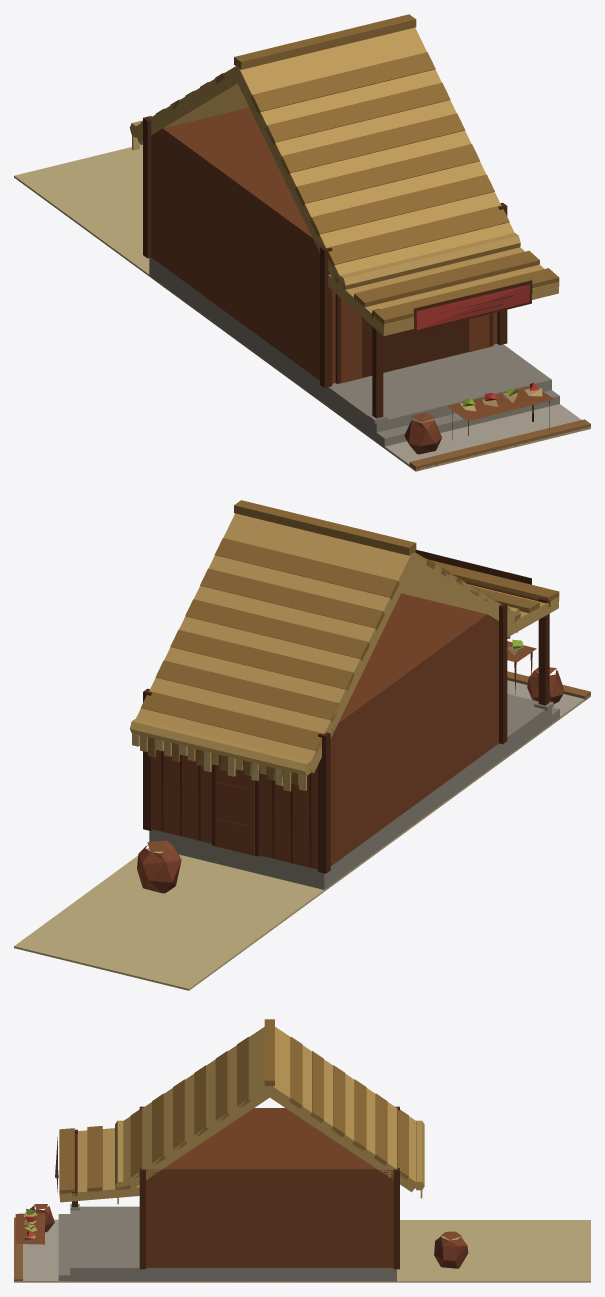
Rendered from bay1_mid.glb.
3 renders of one model, top to bottom at view 1: azimuth 30°, elevation 25°; view 2: azimuth 150°, elevation 25°; view 3: azimuth 270°, elevation 25°, orthographic. The views are drawn at different scales.
Parts seen in each view (by area): view 1: body; view 2: body; view 3: body.
Part boxes in pixels (box(x1,y1,x2,y2)): body: box(14, 14, 590, 471); body: box(14, 500, 590, 990); body: box(14, 1019, 590, 1282).
Bounding box in the file's own units: 4.18 × 6.15 × 15.9.
